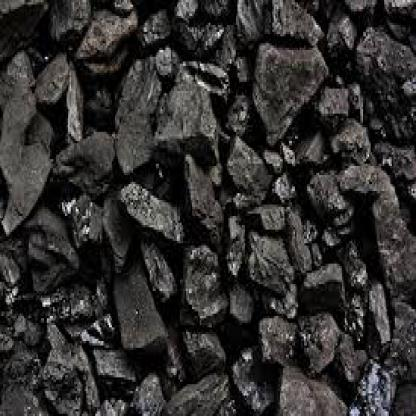Sedimentary_coal: (1, 38, 50, 248), (251, 36, 328, 150), (158, 57, 219, 148), (115, 175, 183, 255), (112, 57, 162, 164), (112, 273, 166, 357), (237, 223, 295, 300), (274, 354, 348, 414), (75, 4, 138, 57)
